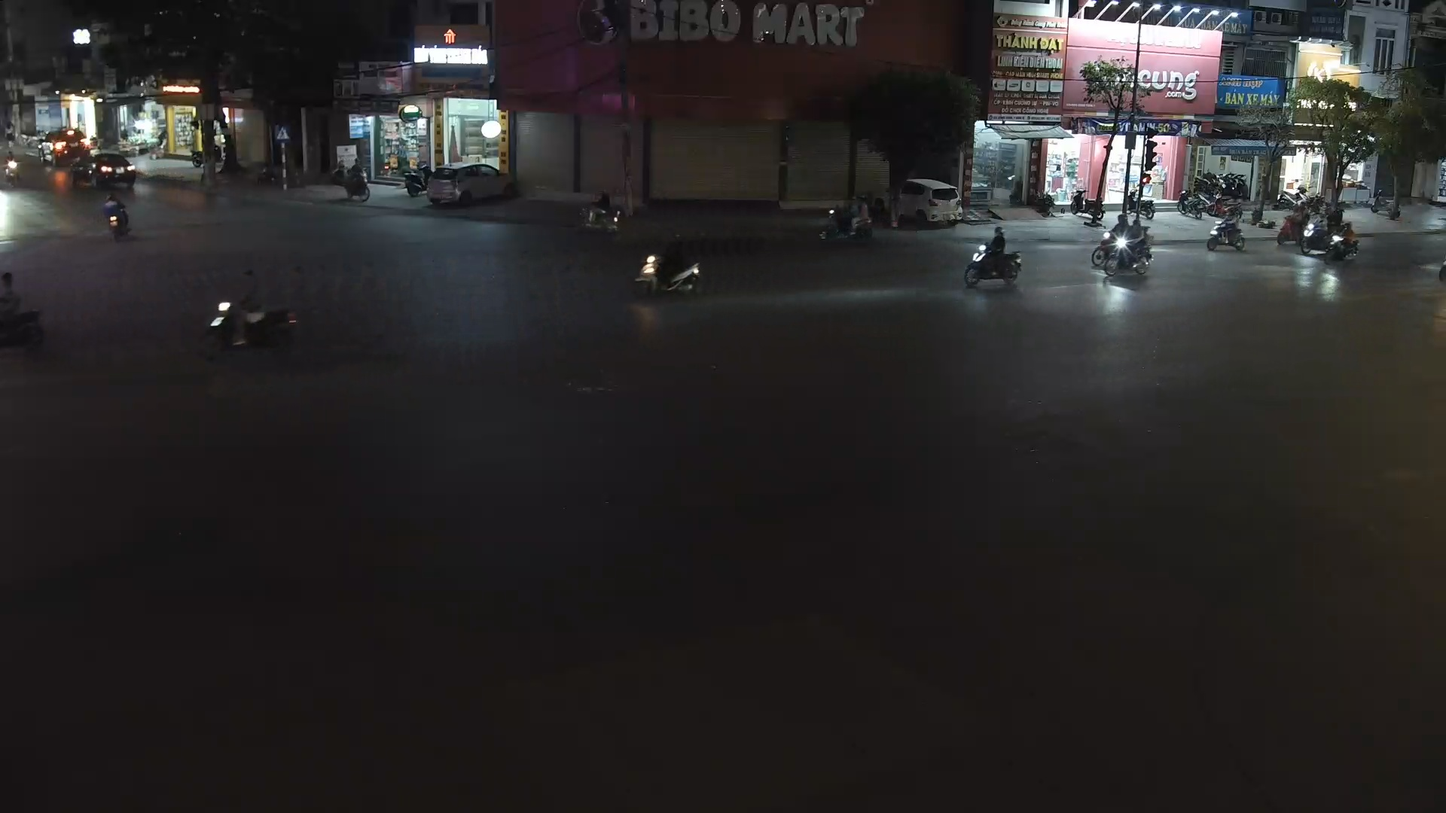car: (0, 256, 46, 351)
motorbike: (201, 261, 302, 364), (631, 233, 706, 299), (0, 262, 47, 351), (962, 222, 1024, 289), (1090, 216, 1154, 279), (100, 188, 133, 242)
